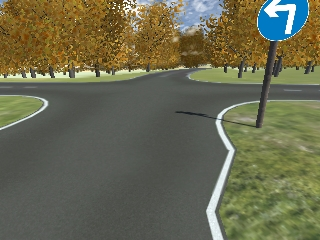left: (256, 1, 309, 40)
